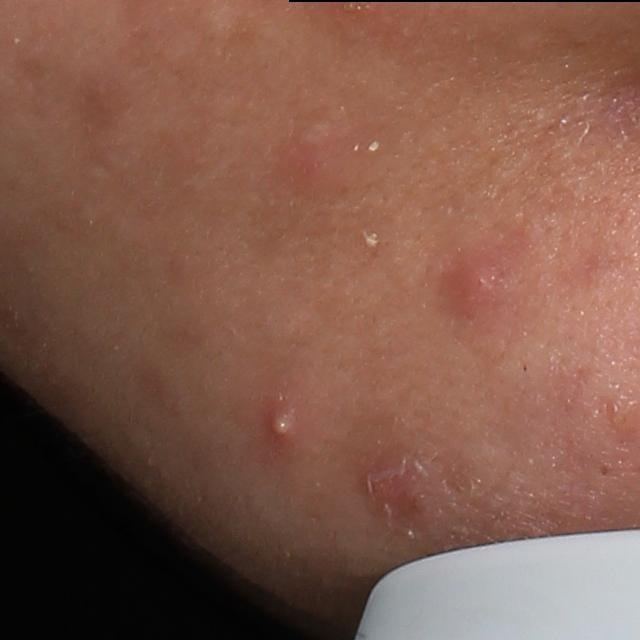comedo: (596, 464, 612, 481)
papule: (381, 462, 432, 527), (450, 255, 499, 315)
pustule: (362, 230, 379, 254)
